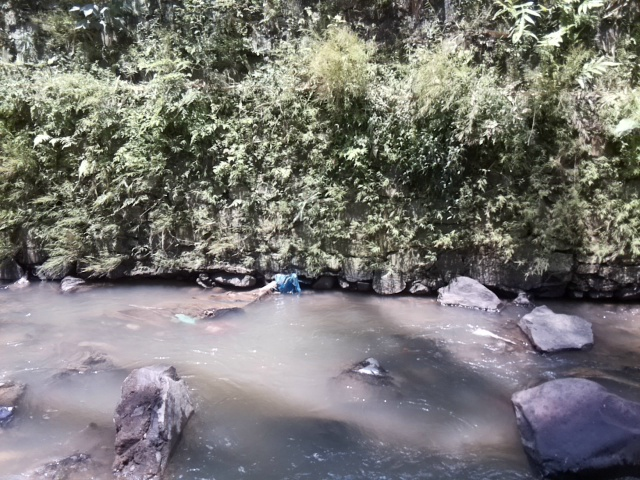Sampah_Plastik: (272, 269, 303, 295)
